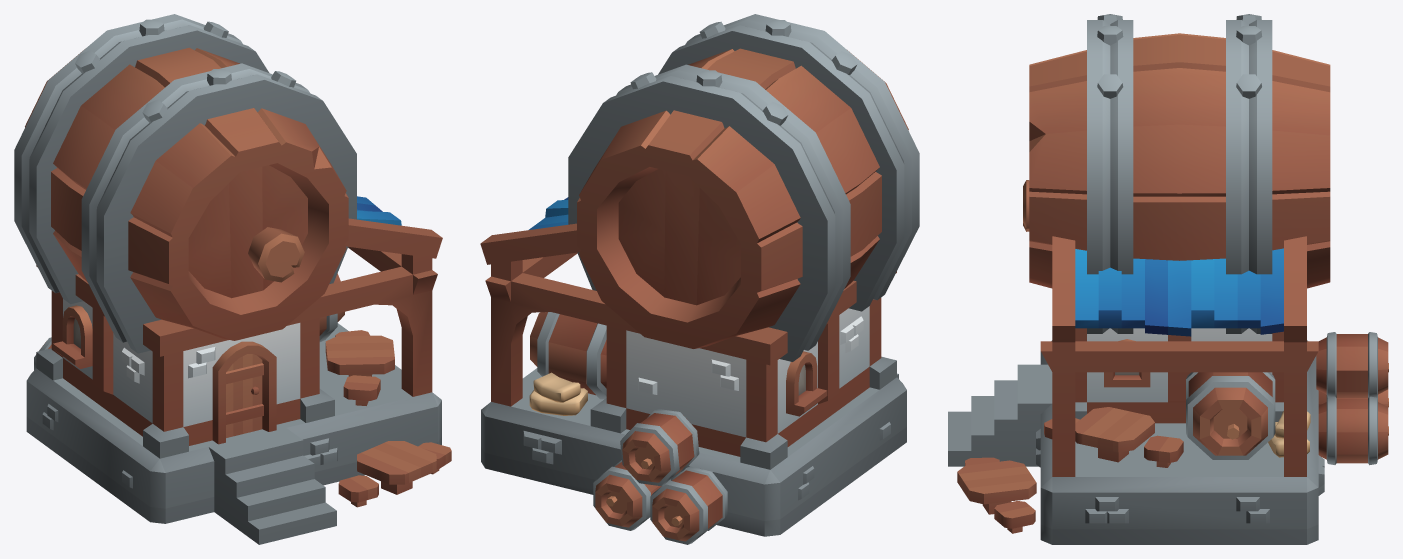
Rendered from office.glb.
3 views of the same model, side by side, from view 1: azimuth 30°, elevation 25°; view 2: azimuth 150°, elevation 25°; view 3: azimuth 270°, elevation 25° (orthographic). The views are drawn at different scales.
Visible parts, largest first — view 1: building_tavern_blue; view 2: building_tavern_blue; view 3: building_tavern_blue.
Part boxes in pixels (left/top/right/bottom): building_tavern_blue: left=14, top=14, right=451, bottom=544; building_tavern_blue: left=480, top=14, right=919, bottom=544; building_tavern_blue: left=948, top=14, right=1388, bottom=544.
Bounding box in the file's own units: 1.17 × 1.4 × 1.33.
Materials: 1 (1 with a texture image).
